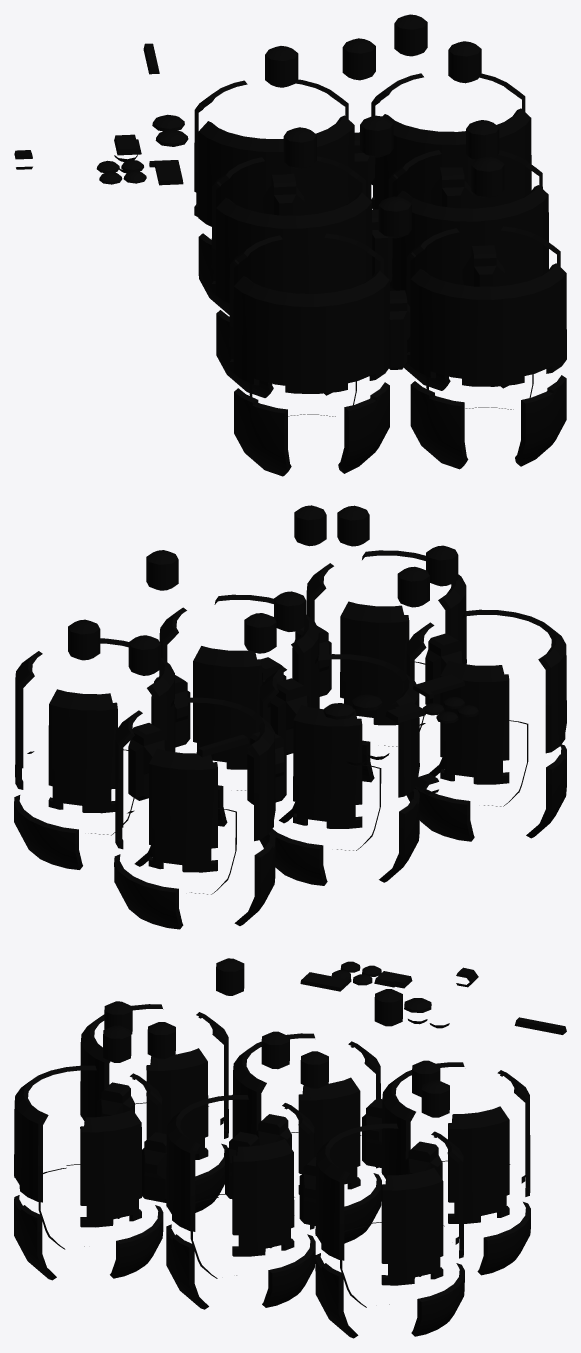
The model's file is prop_static_tr1_container_01_02.glb.
3 renders of one model, top to bottom at view 1: azimuth 30°, elevation 25°; view 2: azimuth 150°, elevation 25°; view 3: azimuth 270°, elevation 25°, orthographic. The views are drawn at different scales.
Parts seen in each view (by area): view 1: tr1_container_01_02_mat01a_LOD0, tr1_container_01_02_mat01b_LOD0, tr1_container_01_02_mat01d_LOD0; view 2: tr1_container_01_02_mat01a_LOD0, tr1_container_01_02_mat01b_LOD0, tr1_container_01_02_mat01d_LOD0; view 3: tr1_container_01_02_mat01a_LOD0, tr1_container_01_02_mat01b_LOD0, tr1_container_01_02_mat01d_LOD0.
Part boxes in pixels (left/top/right/bottom): tr1_container_01_02_mat01a_LOD0: left=14, top=14, right=531, bottom=476; tr1_container_01_02_mat01b_LOD0: left=388, top=150, right=566, bottom=469; tr1_container_01_02_mat01d_LOD0: left=194, top=79, right=354, bottom=314; tr1_container_01_02_mat01a_LOD0: left=14, top=505, right=566, bottom=885; tr1_container_01_02_mat01b_LOD0: left=159, top=550, right=466, bottom=826; tr1_container_01_02_mat01d_LOD0: left=114, top=697, right=275, bottom=929; tr1_container_01_02_mat01a_LOD0: left=80, top=958, right=566, bottom=1338; tr1_container_01_02_mat01b_LOD0: left=14, top=1065, right=315, bottom=1309; tr1_container_01_02_mat01d_LOD0: left=381, top=1062, right=530, bottom=1276.
Size of what is drawn, in the model's own units: 8.92 by 5.26 by 10.18.
3 materials, 3 textured.
